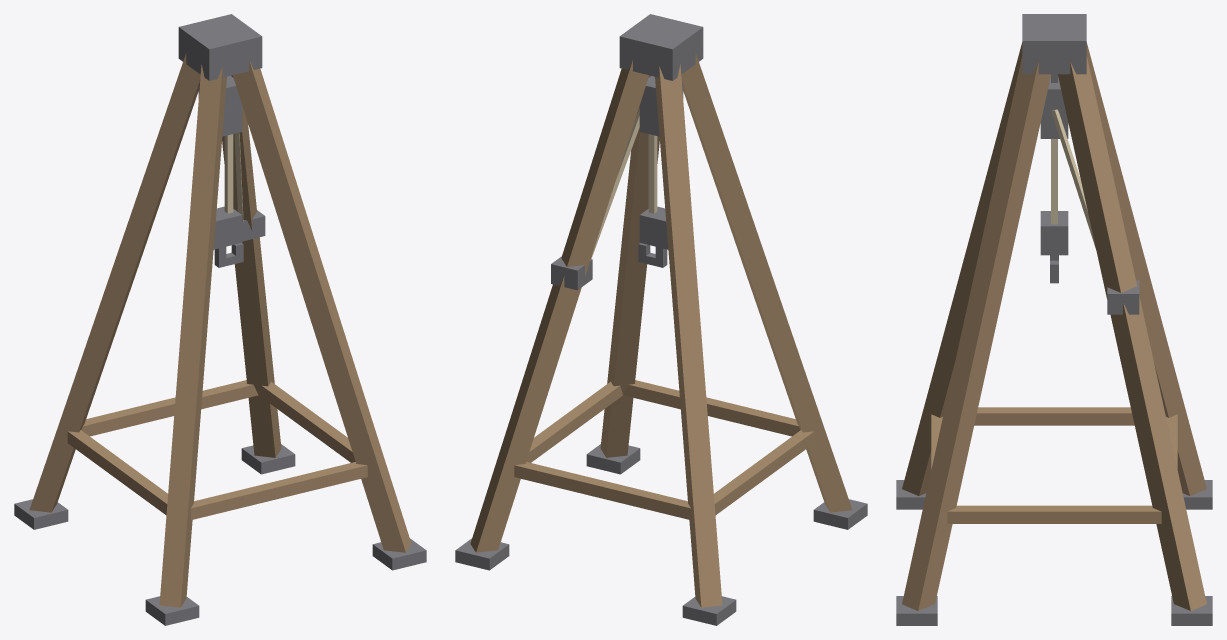
File: prop-shaft-hoist-frame-wood.glb
The picture shows the model from 3 angles, left to right: view 1: azimuth 30°, elevation 25°; view 2: azimuth 150°, elevation 25°; view 3: azimuth 270°, elevation 25°; orthographic projection. The views are drawn at different scales.
Parts seen in each view (by area): view 1: prop-shaft-hoist-frame-wood; view 2: prop-shaft-hoist-frame-wood; view 3: prop-shaft-hoist-frame-wood.
Part boxes in pixels (bbox=[...]): prop-shaft-hoist-frame-wood: bbox=[14, 14, 426, 625]; prop-shaft-hoist-frame-wood: bbox=[455, 14, 867, 625]; prop-shaft-hoist-frame-wood: bbox=[896, 14, 1212, 625].
Size of the model in its own units: 1.38 by 2.56 by 1.38.
